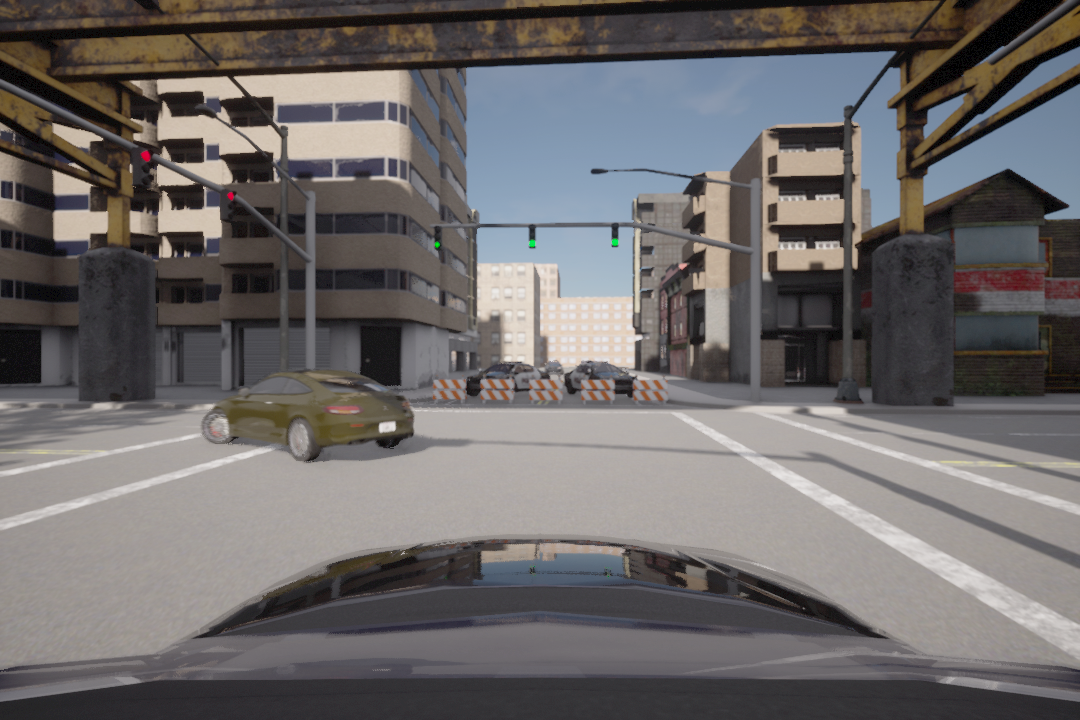TrafficLight: (127, 143, 159, 185), (223, 189, 237, 219), (607, 222, 621, 249), (527, 221, 538, 249), (432, 227, 444, 249)
